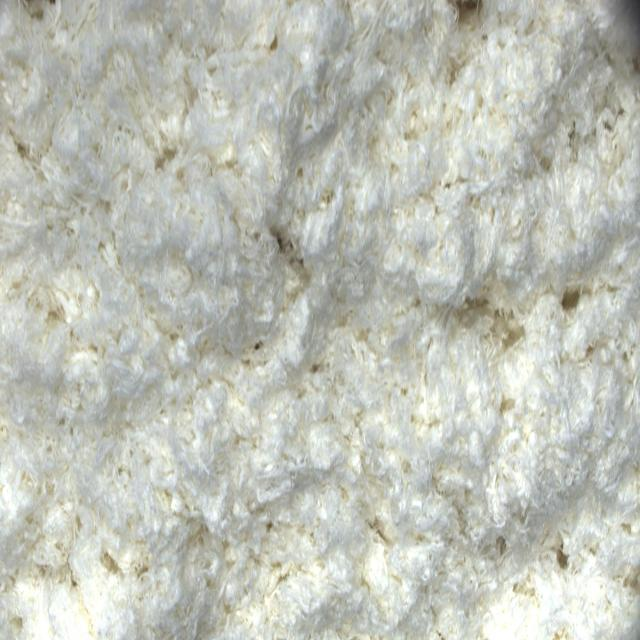dust: (553, 278, 590, 326), (449, 2, 487, 32), (275, 225, 294, 267)
